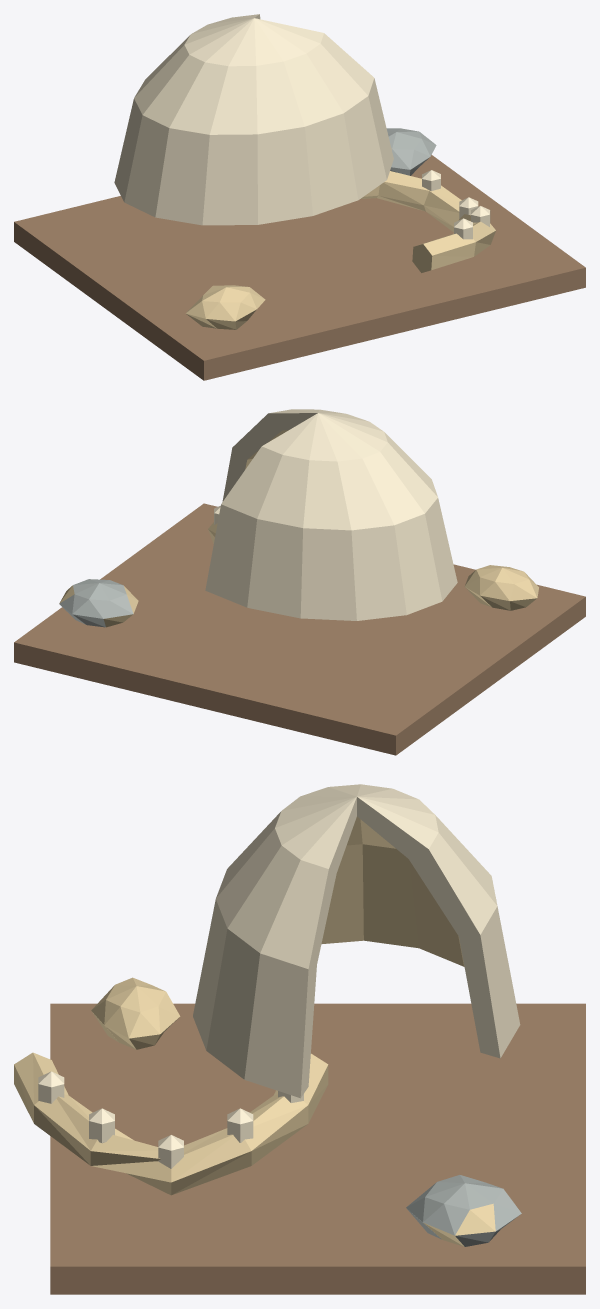
The model's file is jebel-irhoud-associated-remains.708aebb3f648.glb.
The picture shows the model from 3 angles, top to bottom: view 1: azimuth 30°, elevation 25°; view 2: azimuth 150°, elevation 25°; view 3: azimuth 270°, elevation 25°; orthographic projection. The views are drawn at different scales.
Visible parts, largest first — view 1: jebel-irhoud-associated-remains; view 2: jebel-irhoud-associated-remains; view 3: jebel-irhoud-associated-remains.
Part boxes in pixels (bbox=[...]): jebel-irhoud-associated-remains: bbox=[14, 14, 585, 380]; jebel-irhoud-associated-remains: bbox=[14, 409, 585, 755]; jebel-irhoud-associated-remains: bbox=[14, 784, 585, 1294].
Bounding box in the file's own units: 1 × 0.6111 × 0.9193.
